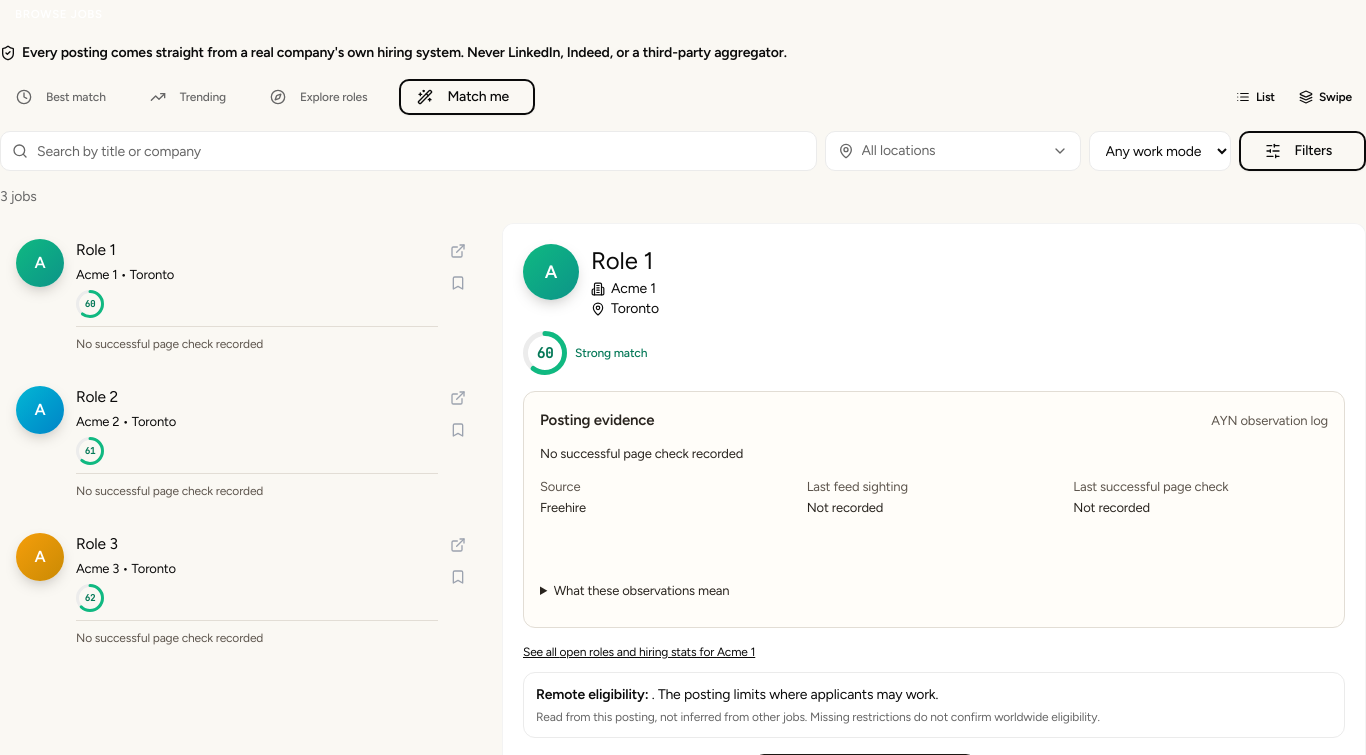
Test: BrowseJobs list (real component, mocked backend) › Trending dialog shows real counts by role and company
Click the button "Trending" at x=192, y=97, box [134, 79, 250, 115]
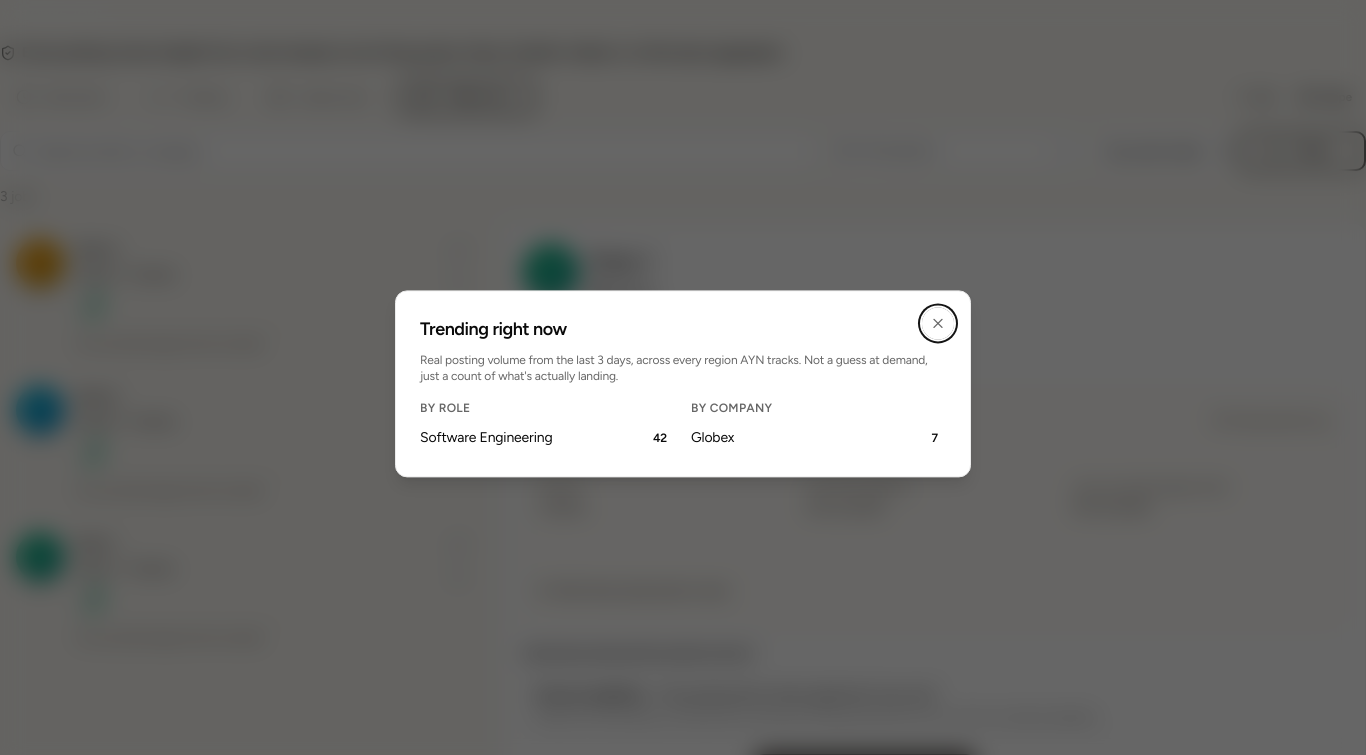
Result: the heading "Trending right now" is shown at [420, 318, 567, 340]
Result: the text "Globex" is shown at [691, 429, 734, 449]
Result: the text "Software Engineering" is shown at [420, 429, 552, 449]
